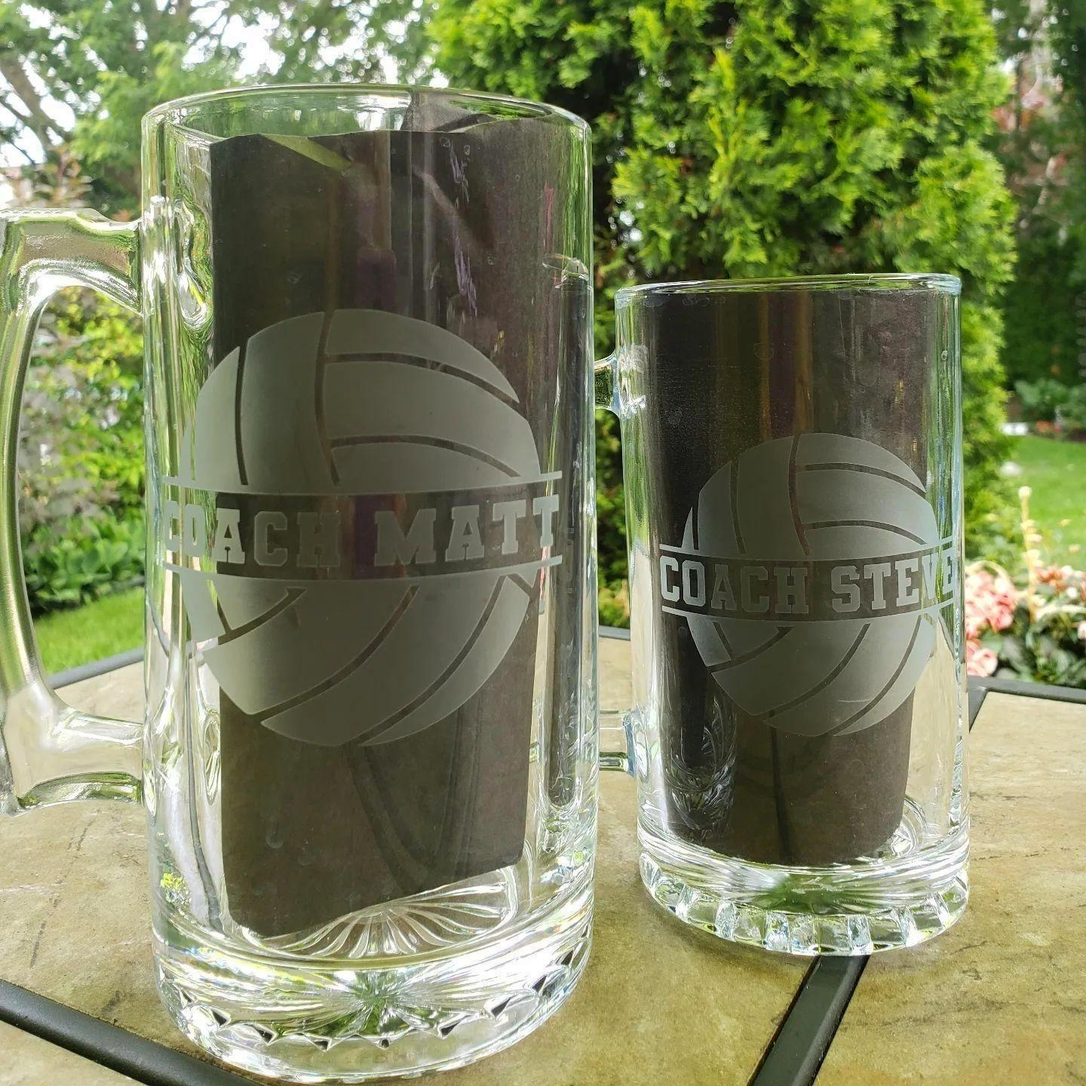glass-mug: (0, 73, 630, 1086), (606, 257, 990, 974)
